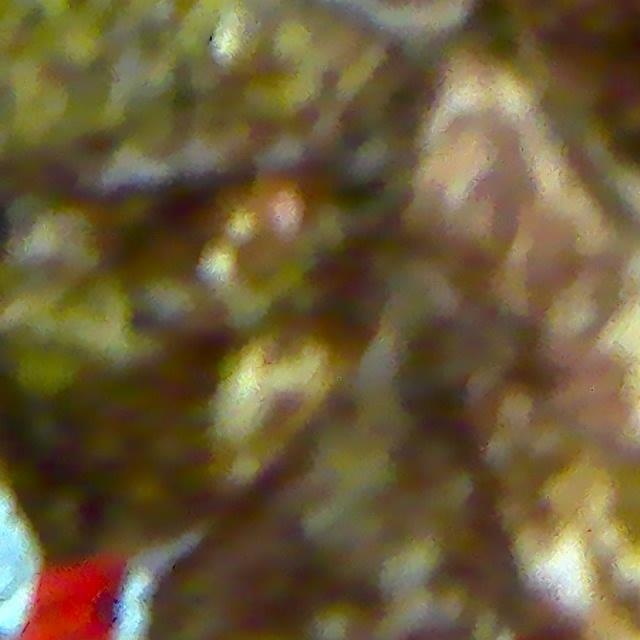SeaGrape: (117, 467, 170, 520), (577, 0, 632, 51), (81, 420, 131, 471)
